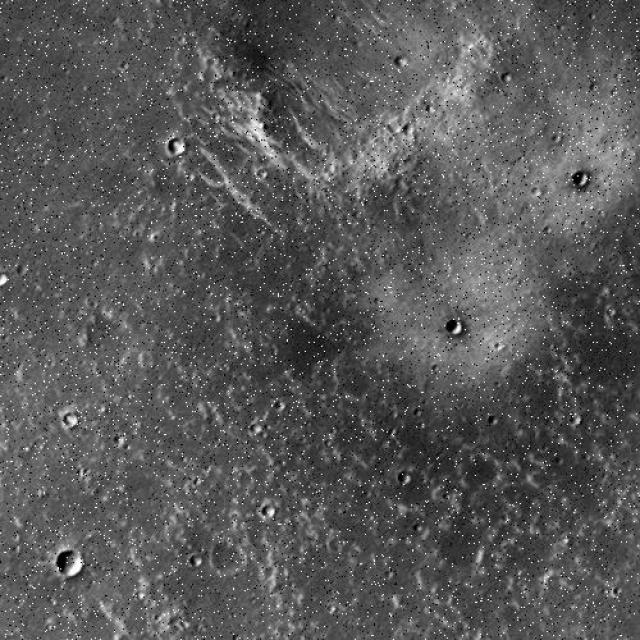crater: (191, 0, 500, 184), (0, 211, 41, 296), (565, 164, 599, 197), (56, 549, 86, 581), (446, 316, 464, 339), (167, 137, 186, 157), (48, 0, 76, 12)
